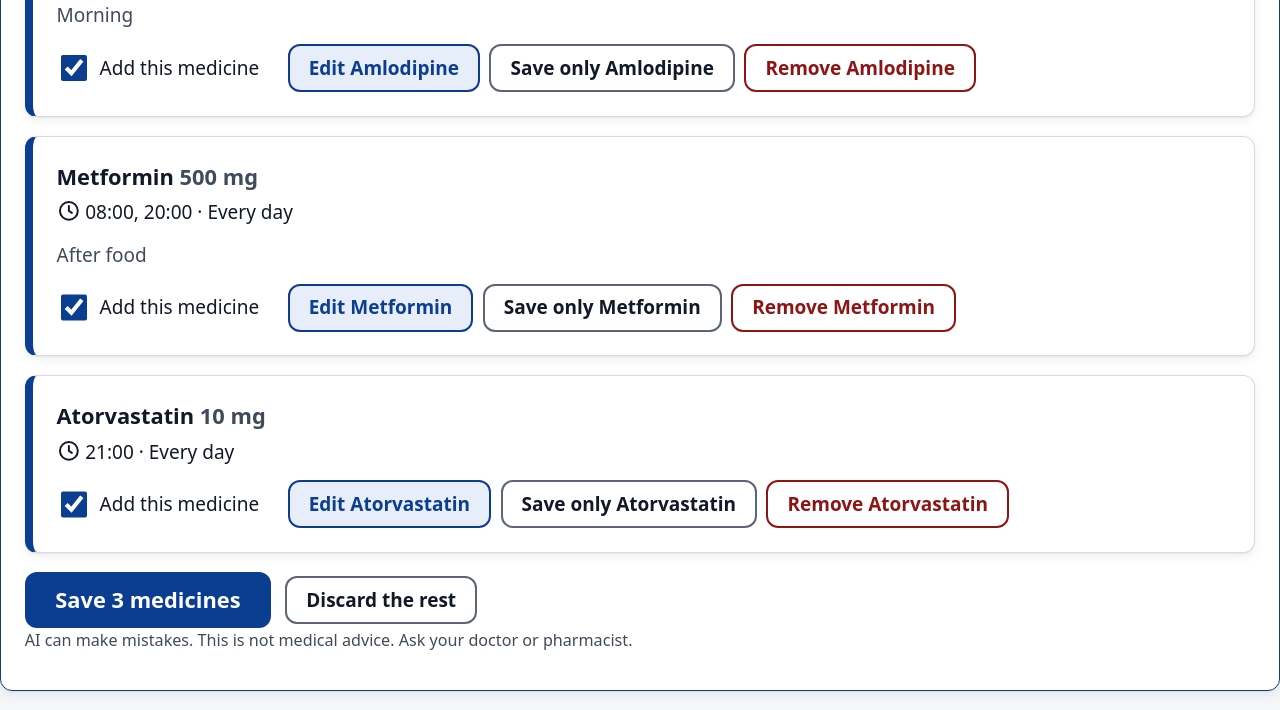
prescription scan review (bug: other drafts were lost after saving one) › Save 3 medicines saves all three with three POST calls from one upload
Earlier steps of the test are not shown.
(page scrolled)
Step 1. Click the button "Save 3 medicines" → (148, 600), box [25, 572, 271, 628]
(page scrolled)
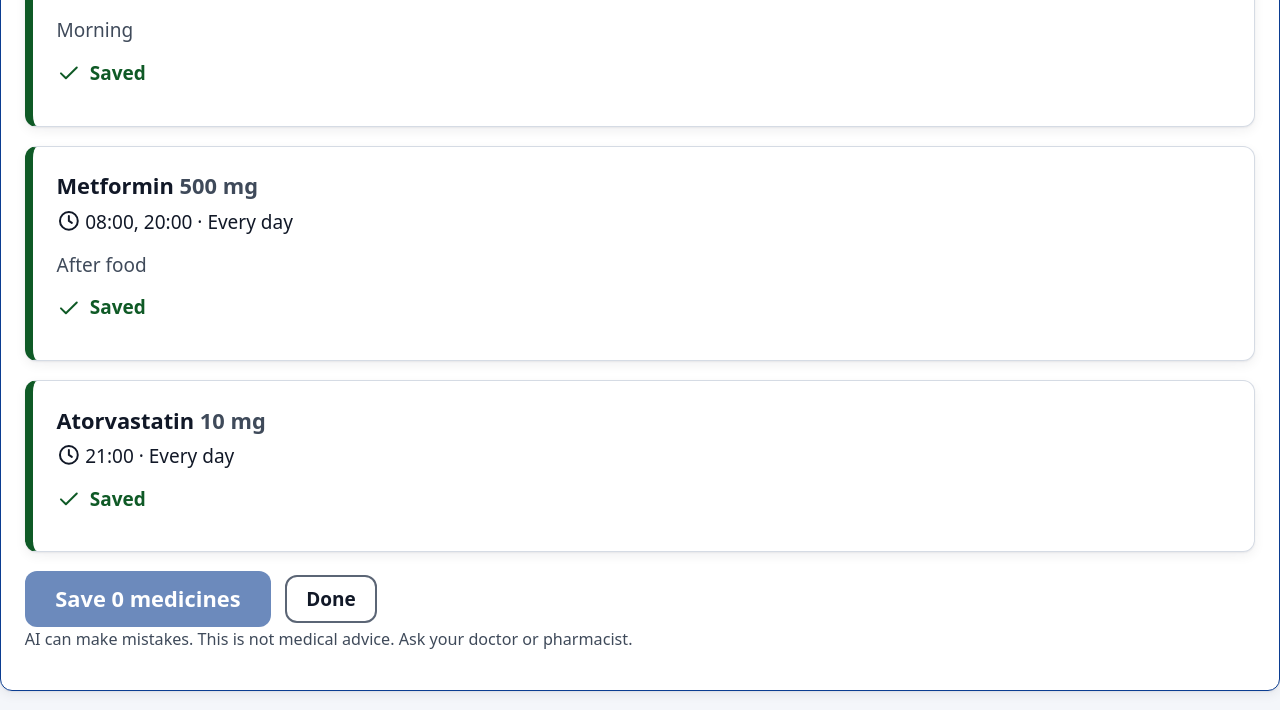
Expected: the text "Saved" below "Atorvastatin" is shown, [90, 486, 146, 512]
Expected: the button "Done" is shown, [285, 575, 377, 623]
